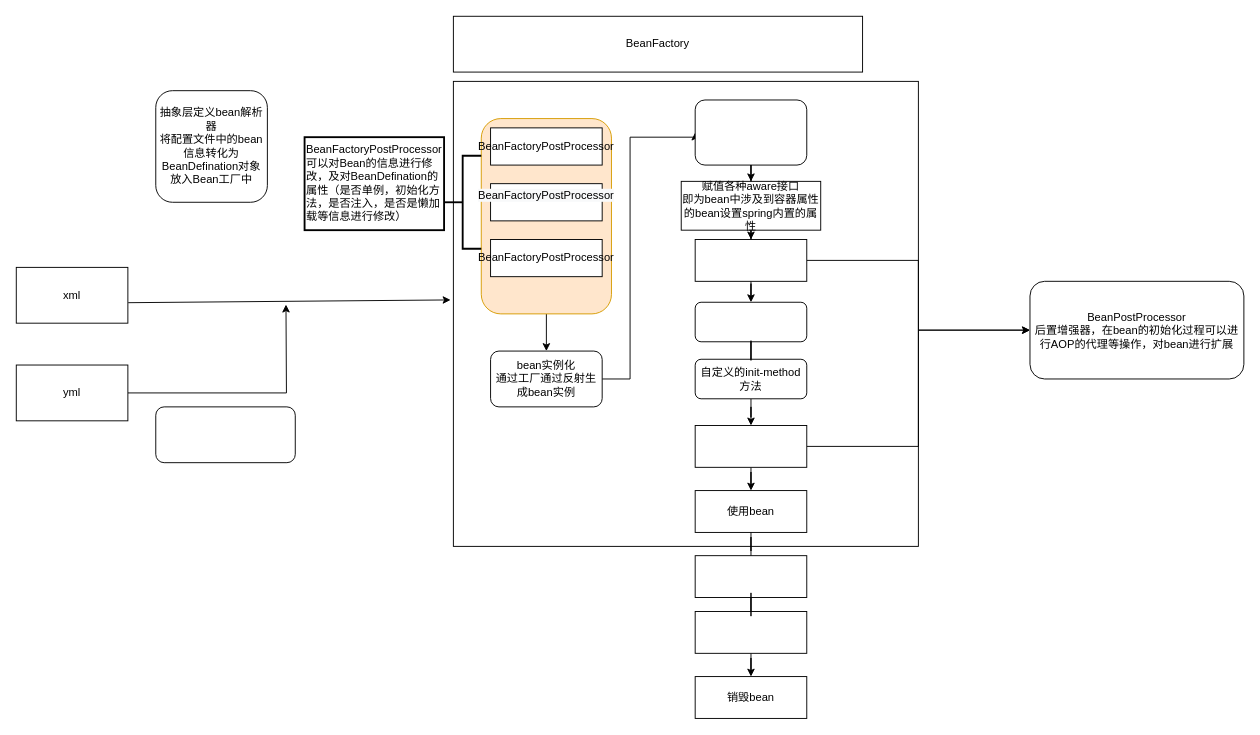
Some shapes in this 1260 by 735 pixel diagram are drawn without their labels. Here are the shapes that lost their labels. From the top down, the centre of each, then its label:
(x=750, y=132): 属性填充 调用setter方法堆属性进行赋值
(x=750, y=260): postProcessBeforeInitialization
(x=750, y=321): afterPropertiesSet()方法
(x=225, y=434): BeanDefinationReader
(x=750, y=446): postProcessAfterInitialization
(x=750, y=576): postProcessBeforeDestruction
(x=750, y=632): 自定义的destory方法
